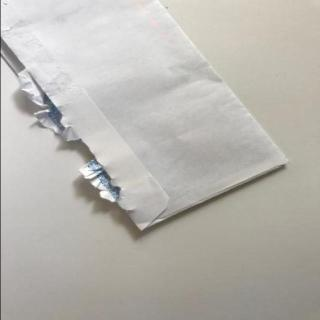Anorganik: (1, 1, 291, 234)
